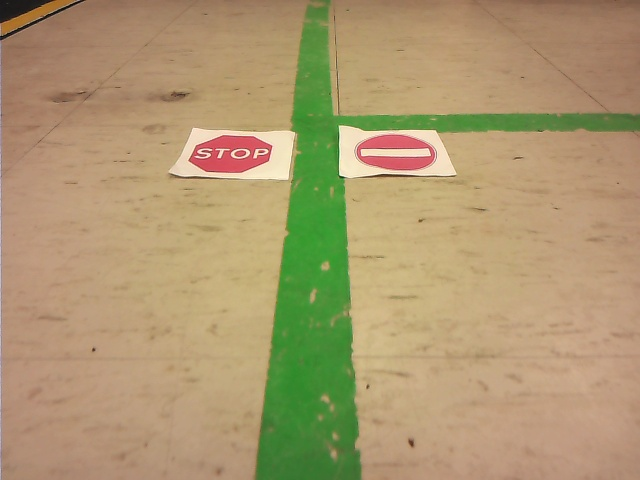NO ENTRY: (356, 135, 436, 169)
STOP: (188, 135, 274, 172)
